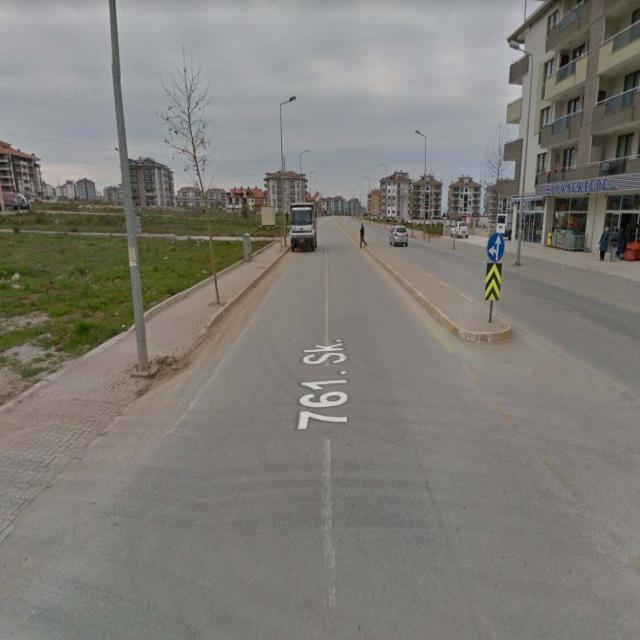ilerisol: (487, 233, 504, 261)
